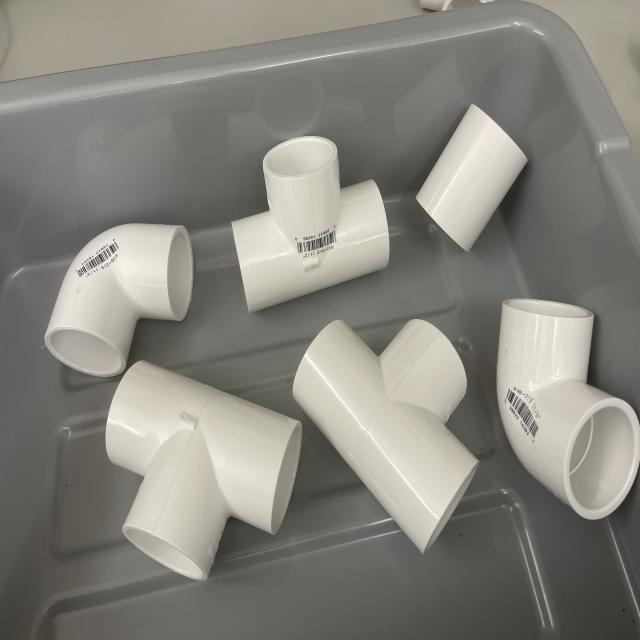L Joint: (495, 298, 640, 524), (44, 223, 196, 376)
T Joint: (291, 321, 481, 556), (103, 362, 304, 583), (230, 136, 391, 315)
